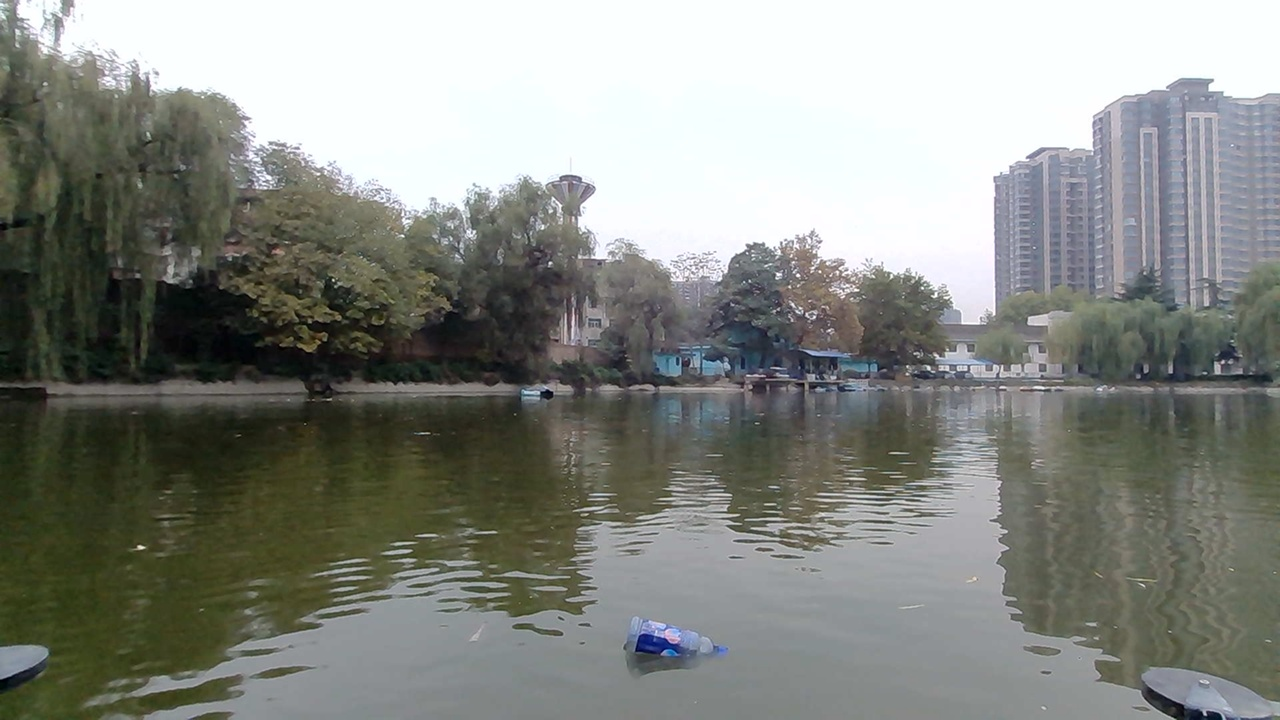bottle: (610, 613, 735, 676)
